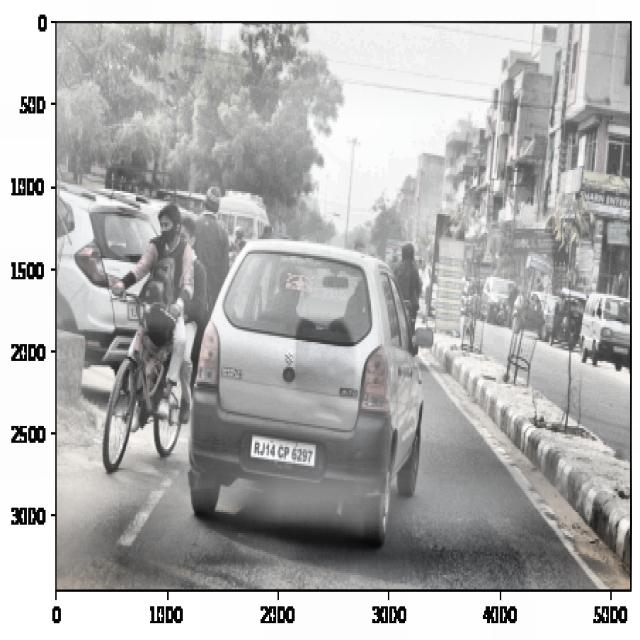license_plate: (250, 437, 316, 469)
